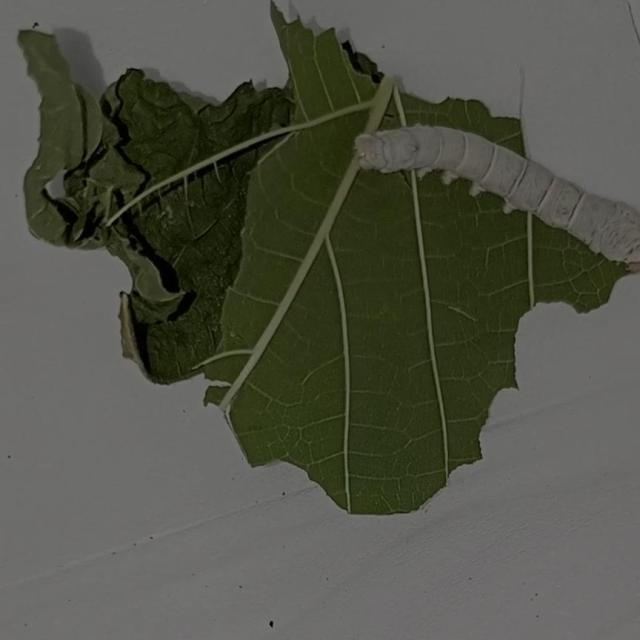Healthy: (344, 108, 640, 302)
